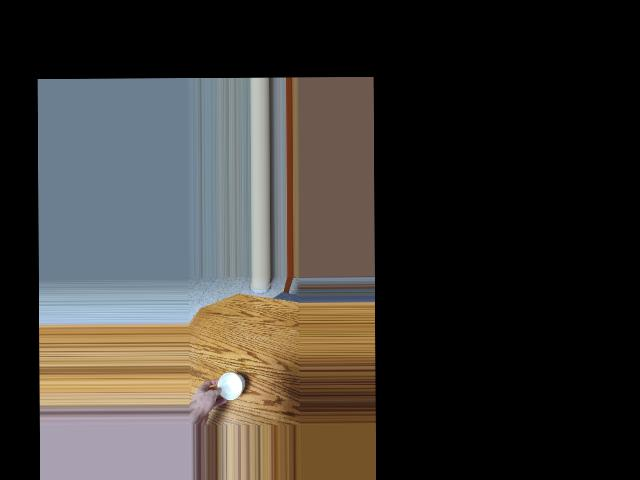cotage: (216, 367, 246, 399)
